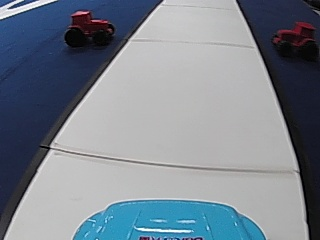tractor: (63, 8, 116, 48), (271, 19, 316, 61)
